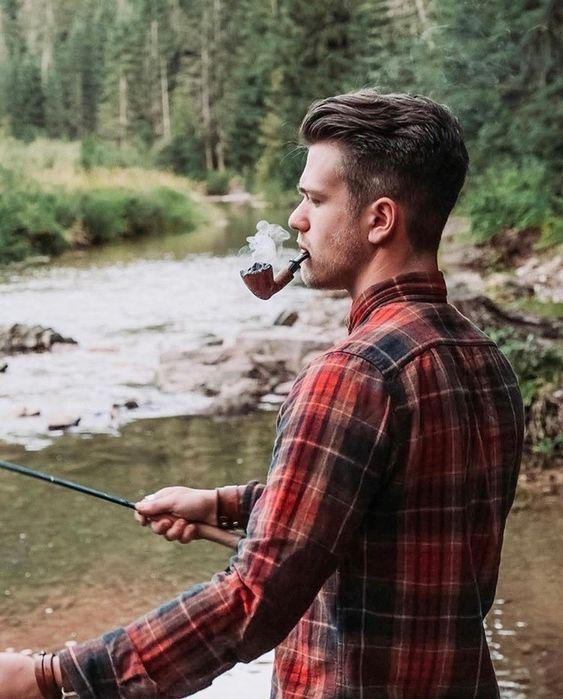trubka: (240, 252, 308, 299)
